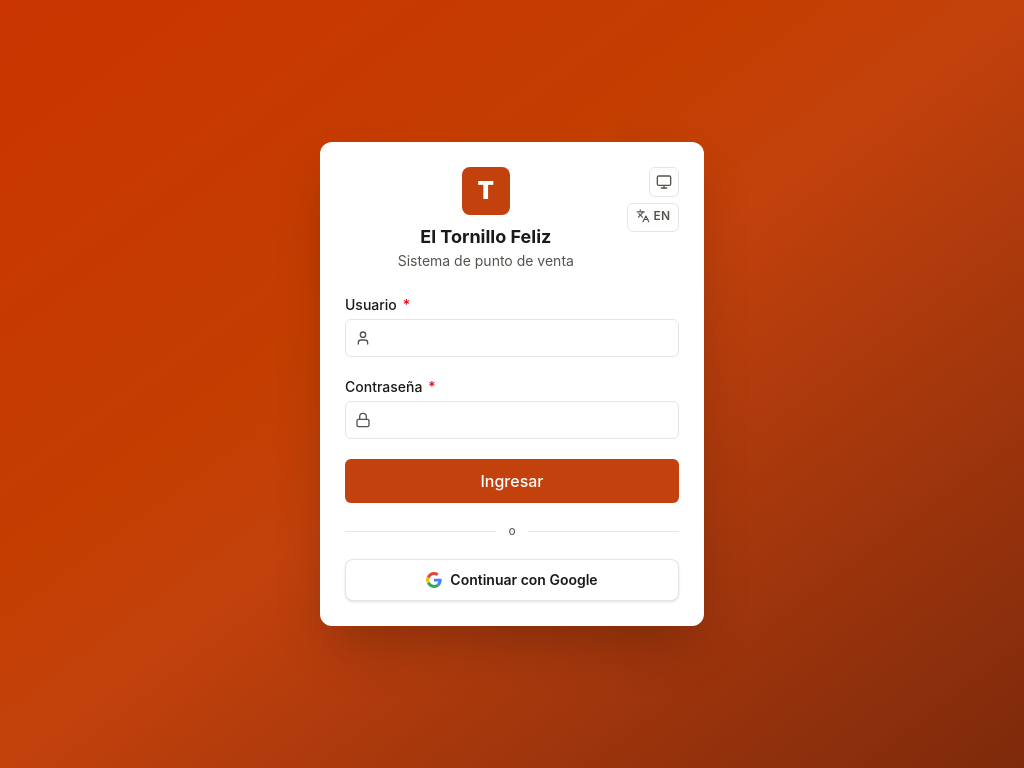
Test: Login (smoke) › muestra el error cuando el login falla
In the field labelled "Usuario *": coordinates (512, 338) [345,319,679,357], type "admin"
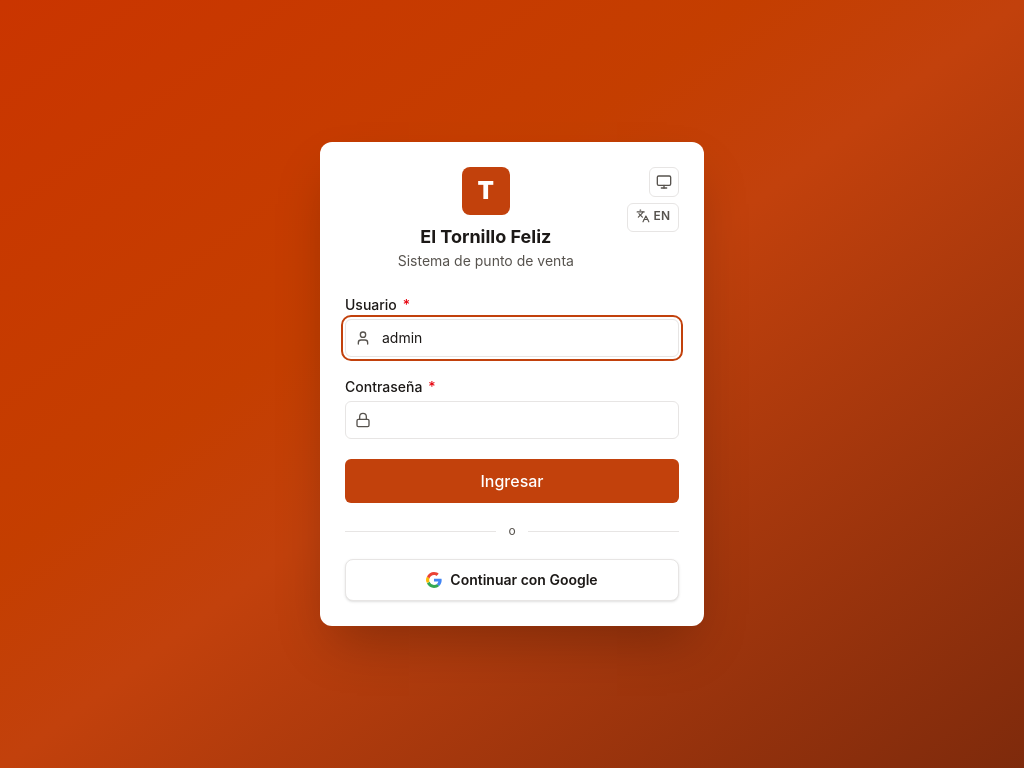
In the password field labelled "Contraseña *": coordinates (512, 420) [345,401,679,439], type "mal"
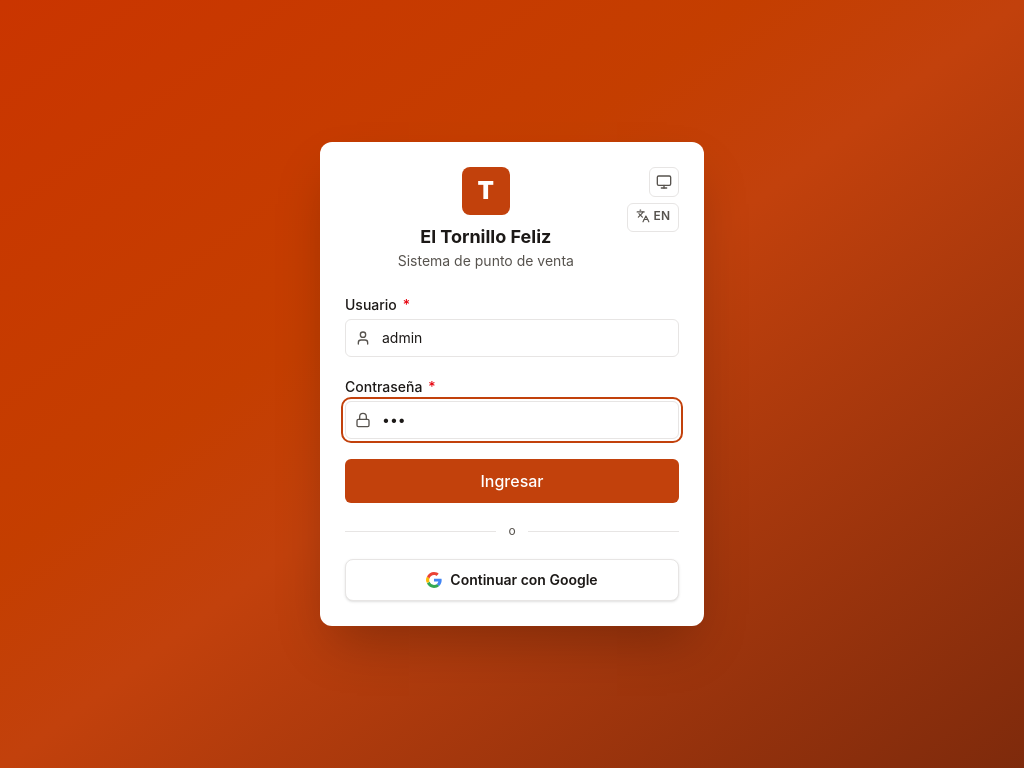
Click the button "Ingresar": coordinates (512, 481) [345,459,679,503]
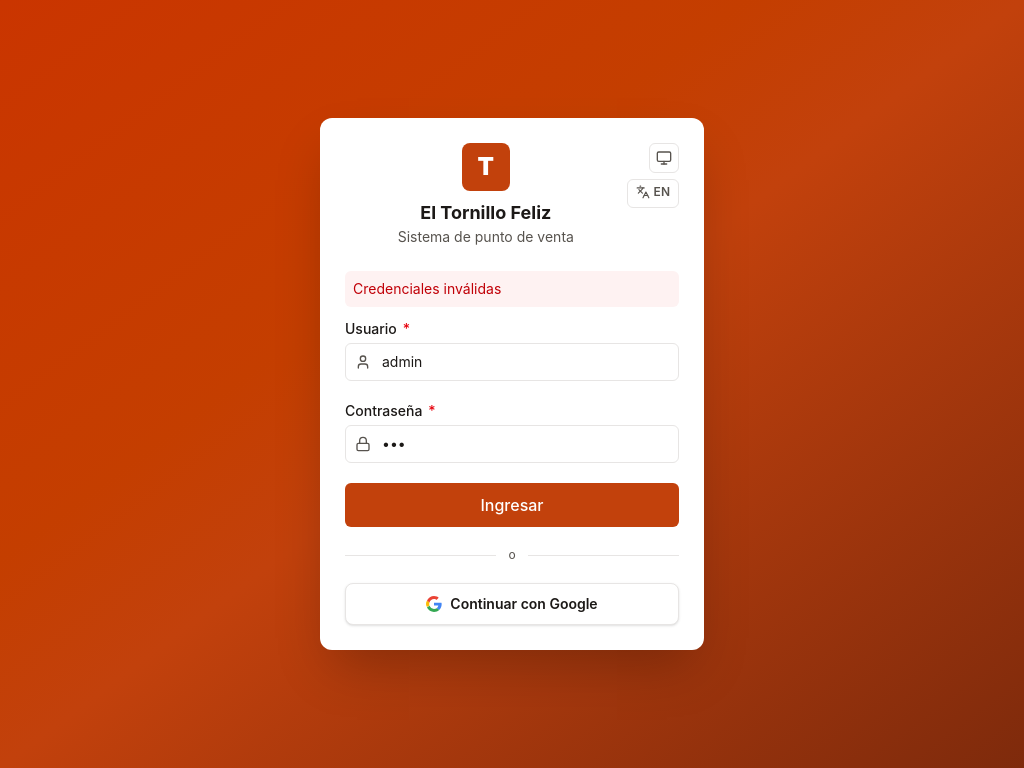
Expected: the text "Credenciales inválidas" is shown, [345,271,679,307]
